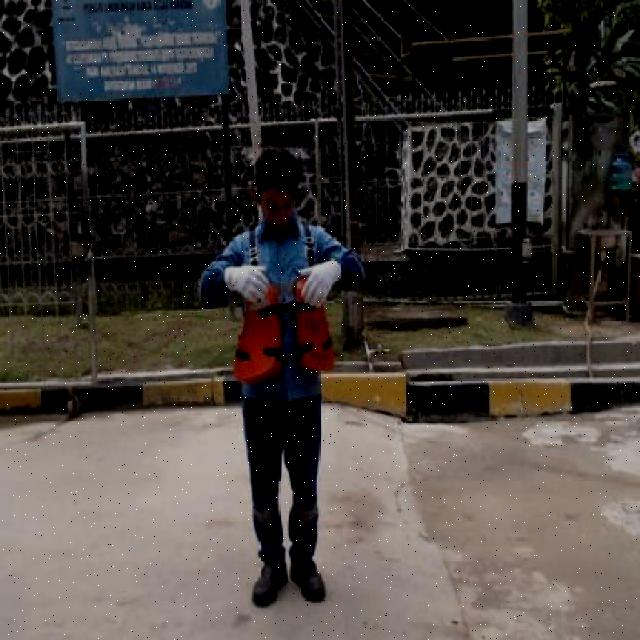Boots: (286, 552, 332, 608), (250, 558, 292, 616)
Gloves: (298, 258, 346, 307), (220, 262, 272, 304)
Mask: (232, 276, 336, 390)
